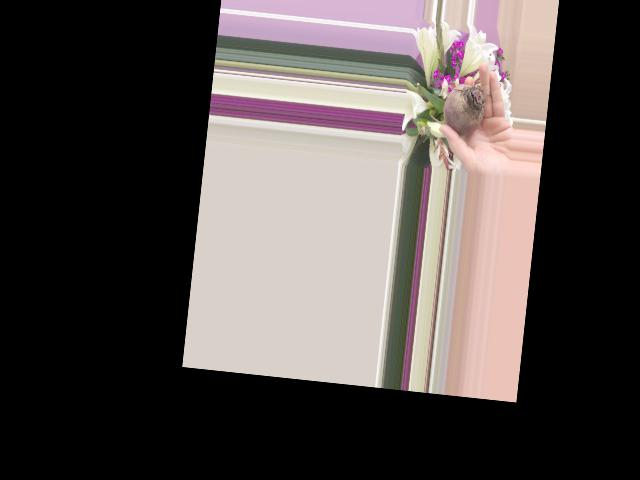beet: (428, 80, 487, 137)
